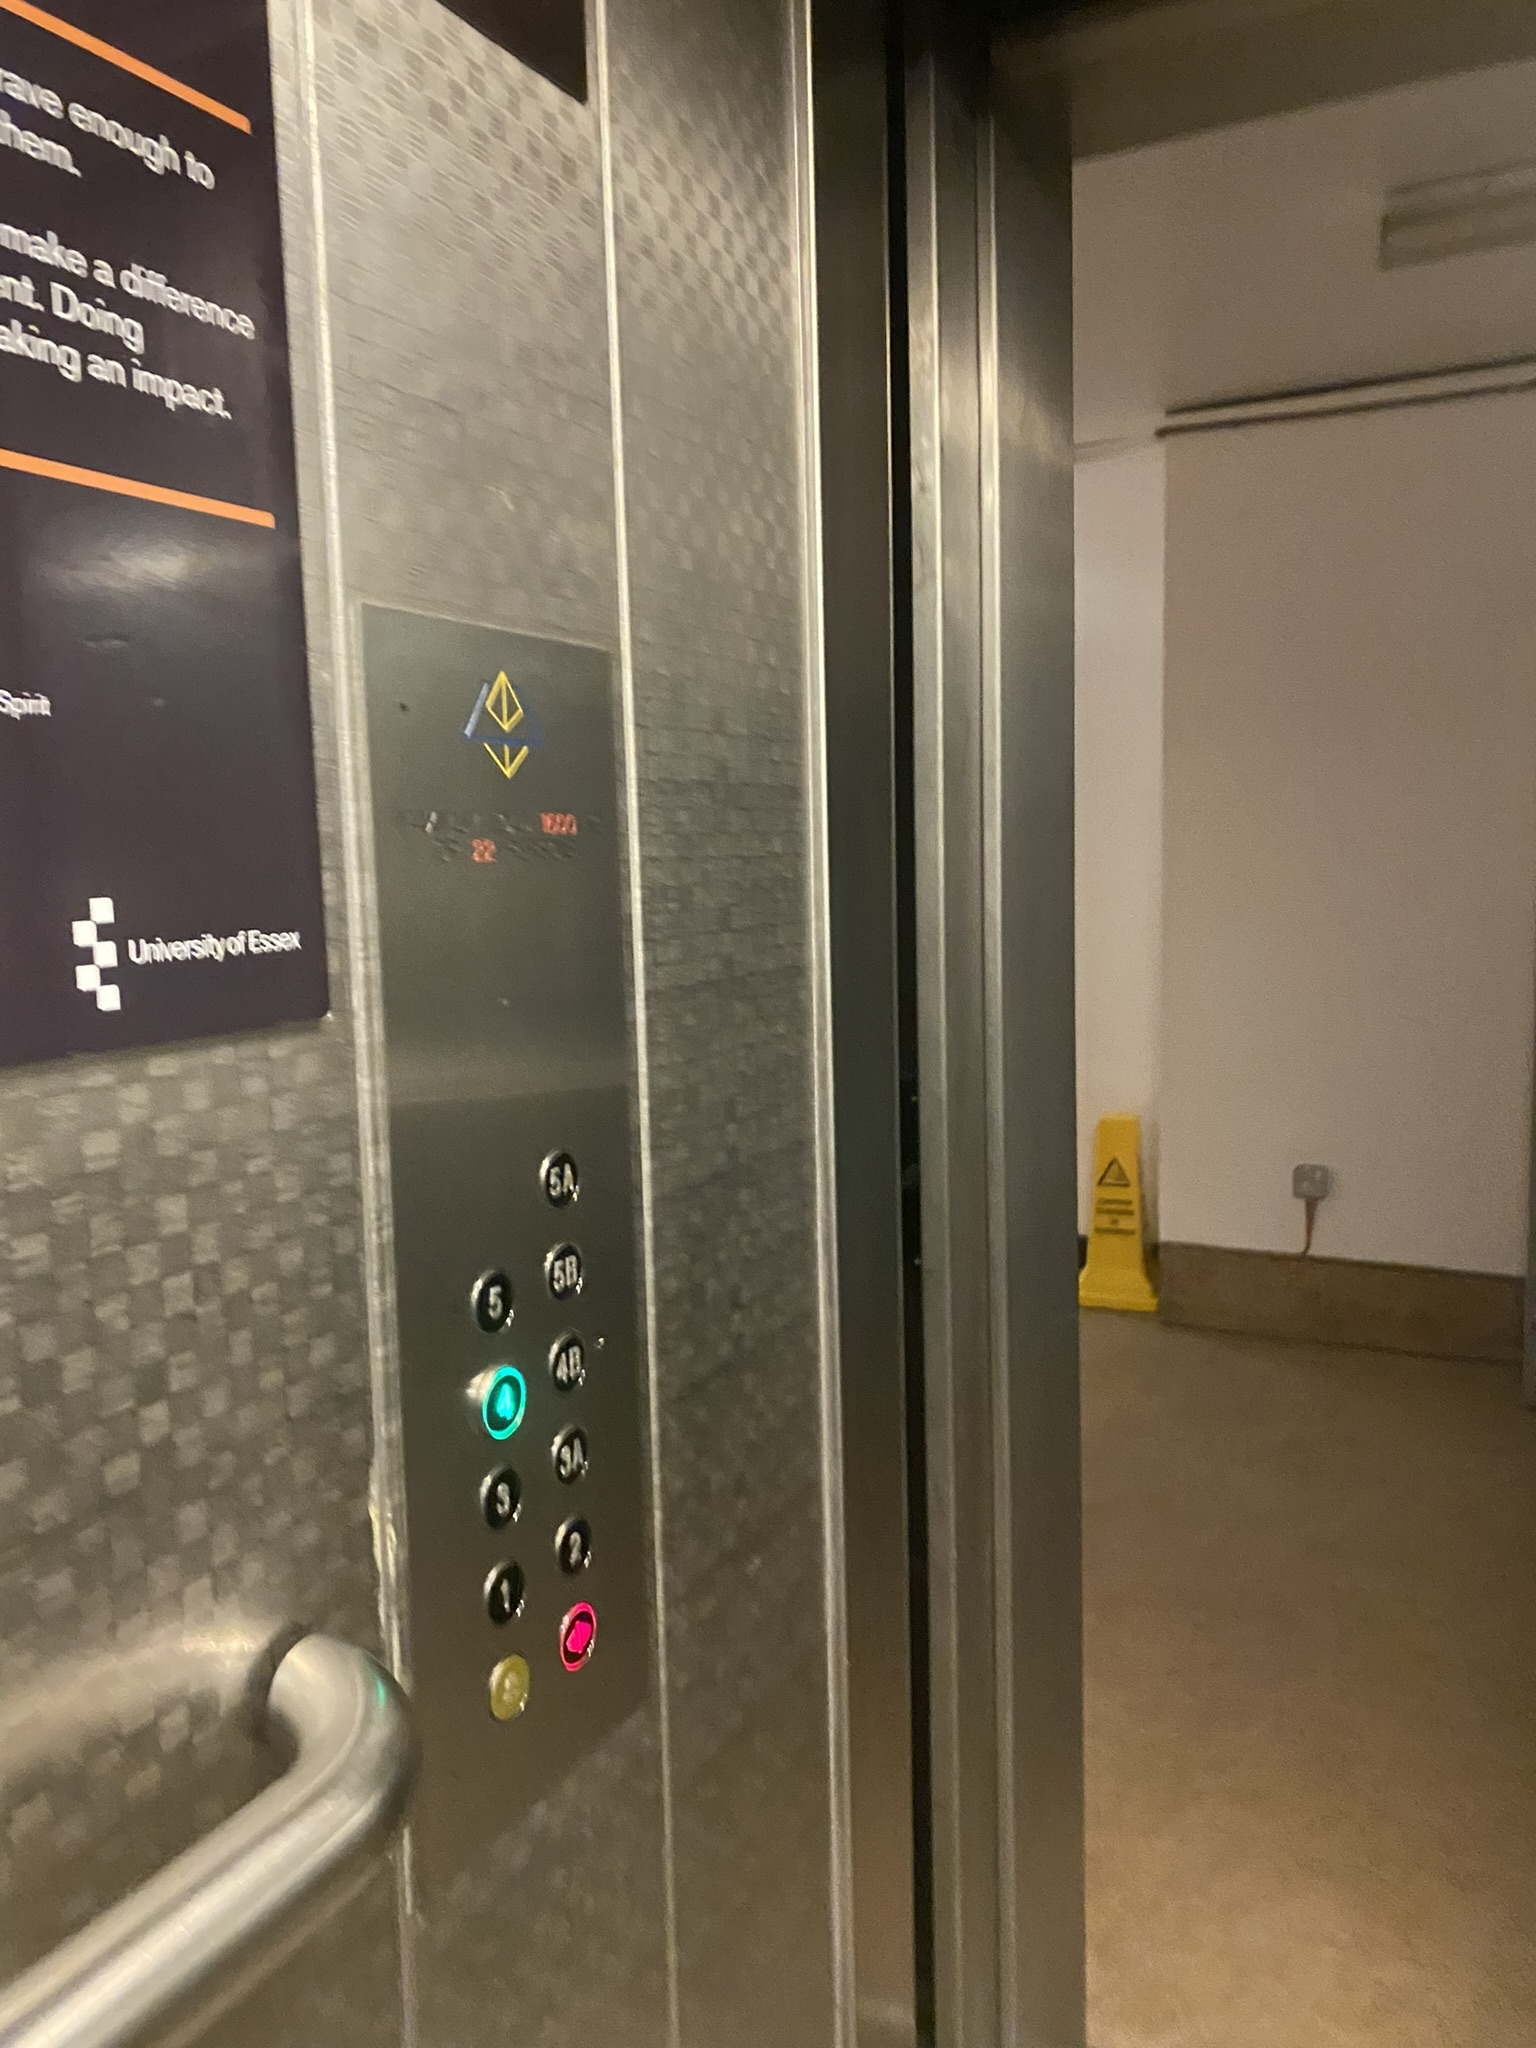buttons: (350, 724, 1447, 1821)
